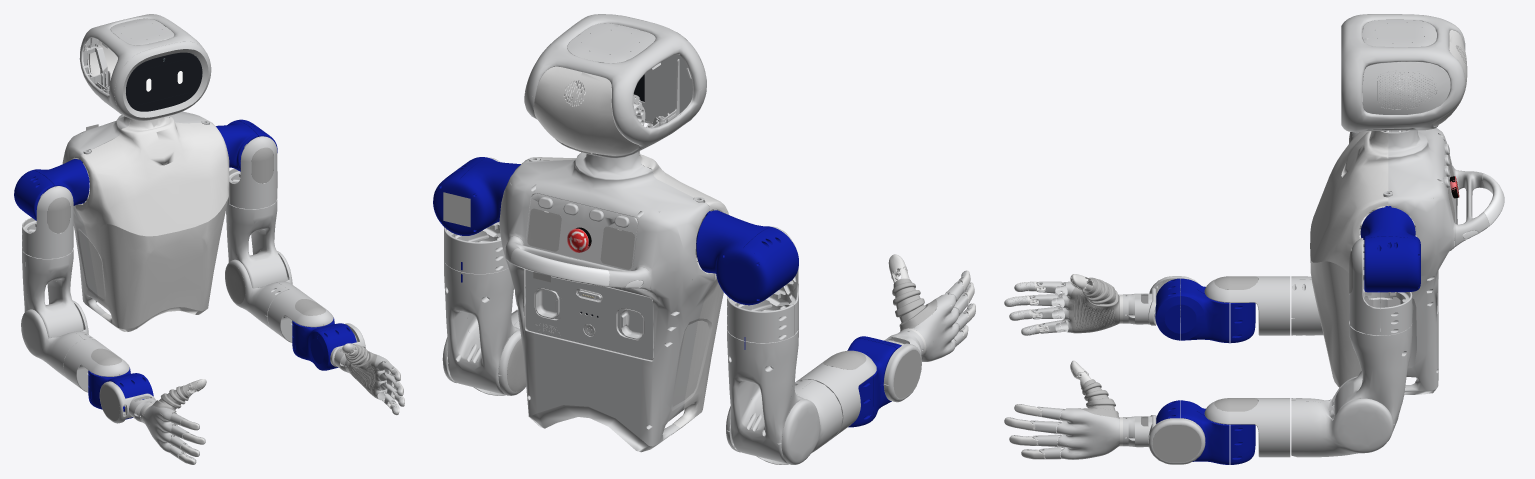
The model's file is rp1-upper-body-product-white.glb.
3 renders of one model, left to right at view 1: azimuth 30°, elevation 25°; view 2: azimuth 150°, elevation 25°; view 3: azimuth 270°, elevation 25°, orthographic. The views are drawn at different scales.
Visible parts, largest first — view 1: chest-1.001, 上手臂下-0914.001, 上手臂下-0914, chest-2, InteractiveHead-2.001, arm-2.004, arm-2.005, InteractiveHead-1, arm-1.004, InteractiveHead-1.002, arm-3.001, arm-3.006 (+24 smaller); view 2: chest-2, 电池本体2, 上手臂下2-0914.001, 局部修改补充-0916, InteractiveHead-1, InteractiveHead-2, InteractiveHead-3, chest-1.001, arm-1.004, InteractiveHead-2.002, arm-1.006, arm-4.004 (+22 smaller); view 3: chest-1.001, chest-2, arm-1.010, InteractiveHead-1, InteractiveHead-2.003, arm-3.003, arm-3.001, arm-3.006, hand-3.002, arm-2.006, InteractiveHead-3, 局部修改补充-0916 (+21 smaller).
Part boxes in pixels (bbox=[...]): chest-1.001: bbox=[76, 117, 229, 331]; 上手臂下-0914.001: bbox=[25, 249, 83, 338]; 上手臂下-0914: bbox=[229, 199, 287, 288]; chest-2: bbox=[62, 111, 211, 317]; InteractiveHead-2.001: bbox=[114, 41, 211, 120]; arm-2.004: bbox=[25, 186, 73, 258]; arm-2.005: bbox=[229, 136, 277, 209]; InteractiveHead-1: bbox=[80, 14, 207, 92]; arm-1.004: bbox=[21, 309, 83, 379]; InteractiveHead-1.002: bbox=[136, 58, 191, 105]; arm-3.001: bbox=[267, 289, 333, 342]; arm-3.006: bbox=[63, 339, 129, 392]; chest-2: bbox=[499, 152, 714, 452]; 电池本体2: bbox=[525, 269, 653, 360]; 上手臂下2-0914.001: bbox=[727, 328, 794, 463]; 局部修改补充-0916: bbox=[444, 261, 510, 394]; InteractiveHead-1: bbox=[525, 14, 706, 117]; InteractiveHead-2: bbox=[534, 66, 639, 155]; InteractiveHead-3: bbox=[524, 54, 706, 158]; chest-1.001: bbox=[527, 151, 728, 434]; arm-1.004: bbox=[772, 380, 842, 464]; InteractiveHead-2.002: bbox=[567, 23, 655, 63]; arm-1.006: bbox=[716, 247, 769, 305]; arm-4.004: bbox=[696, 210, 770, 273]; chest-1.001: bbox=[1310, 131, 1388, 387]; chest-2: bbox=[1388, 128, 1457, 394]; arm-1.010: bbox=[1291, 398, 1393, 457]; InteractiveHead-1: bbox=[1348, 14, 1465, 104]; InteractiveHead-2.003: bbox=[1363, 61, 1450, 114]; arm-3.003: bbox=[1364, 236, 1415, 292]; arm-3.001: bbox=[1204, 398, 1290, 457]; arm-3.006: bbox=[1204, 276, 1290, 335]; hand-3.002: bbox=[1056, 408, 1119, 459]; arm-2.006: bbox=[1181, 278, 1229, 343]; InteractiveHead-3: bbox=[1348, 48, 1465, 132]; 局部修改补充-0916: bbox=[1379, 323, 1412, 430].
Size of the model in its own units: 0.448 by 0.5085 by 0.6516.
13 materials, 2 textured.
